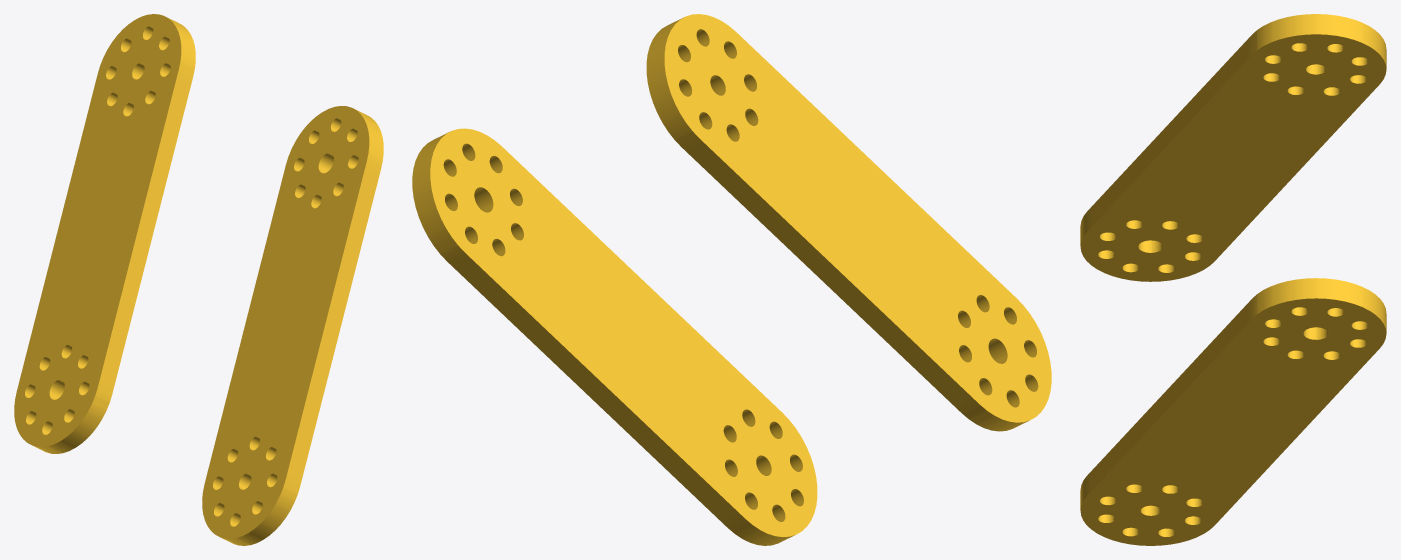
The model's file is right_leg_link1.dae.
The picture shows the model from 3 angles, left to right: view 1: azimuth 30°, elevation 25°; view 2: azimuth 150°, elevation 25°; view 3: azimuth 270°, elevation 25°; orthographic projection. The views are drawn at different scales.
Visible parts, largest first — view 1: node0; view 2: node0; view 3: node0.
Boxes of the visible parts, x1,y1,x2,y2 form: node0: (14, 14, 383, 545); node0: (412, 14, 1051, 545); node0: (1080, 14, 1386, 545).
Bounding box in the file's own units: 0.0707 × 0.076 × 0.0391.
